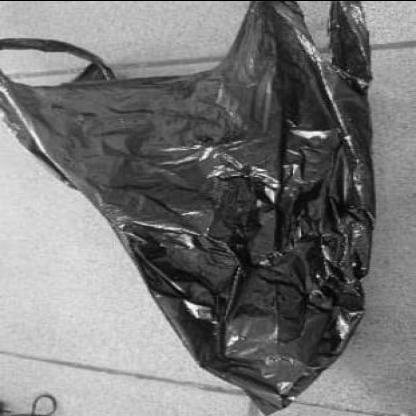objects: (1, 2, 393, 416)
